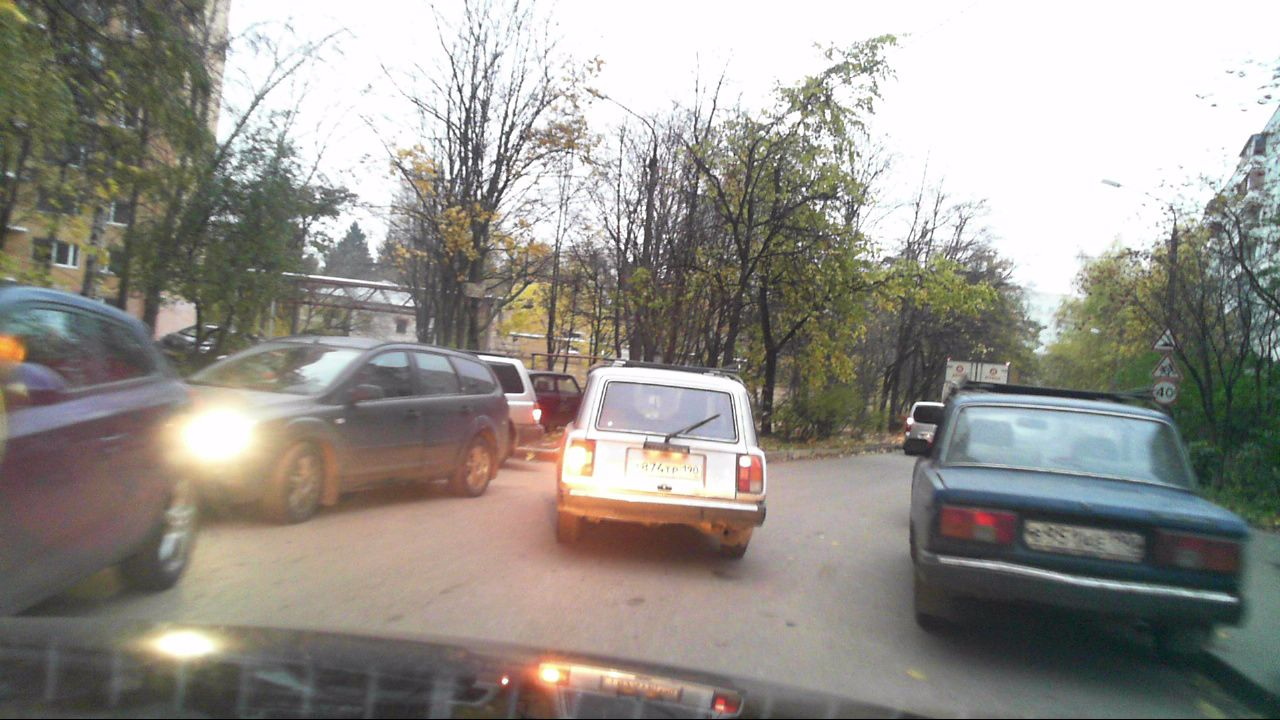speed_warning_40: (1152, 380, 1178, 404)
